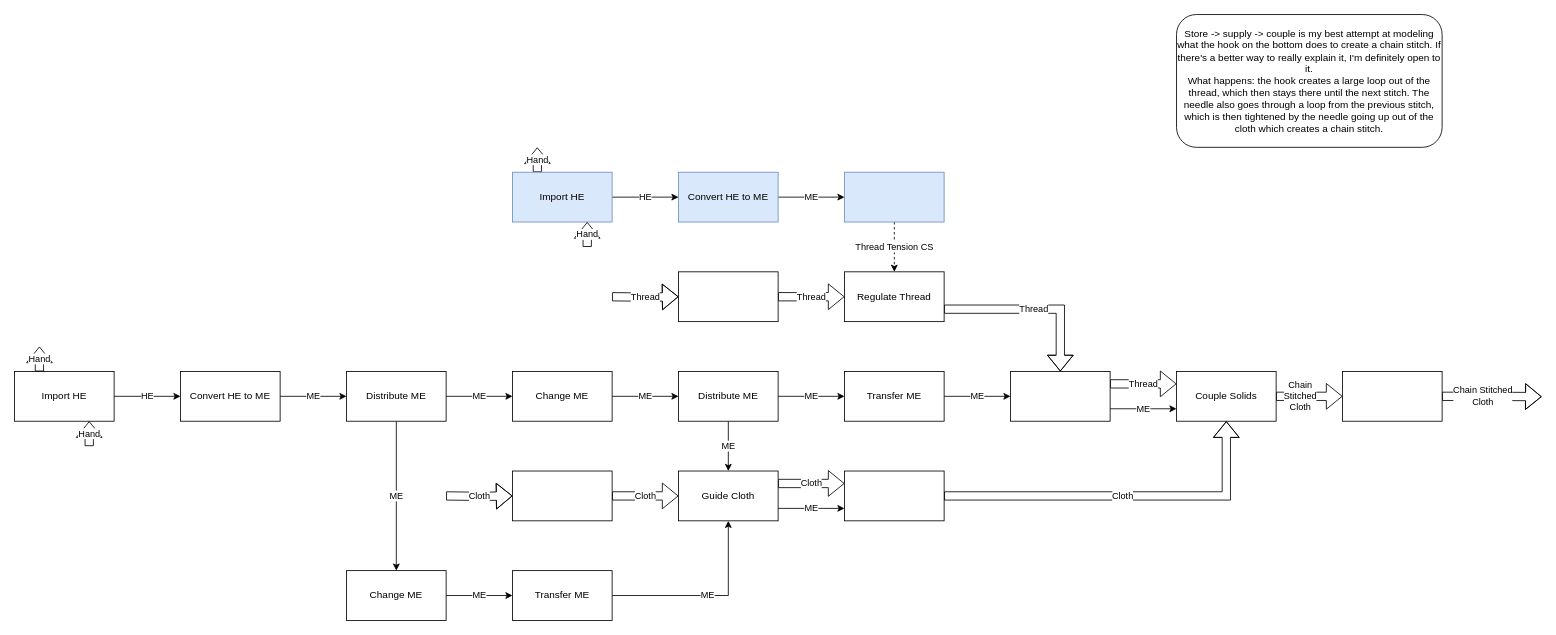
The diagram is 1556 pixels wide and 635 high, and some of its shapes have lost their labels. Each missing label, with the centre of its shape:
Convert ME to CS: the point at 894,196
Export Solid: the point at 1392,396
Guide Thread: the point at 1060,396
Import Cloth: the point at 562,495
Import Thread: the point at 728,296
Secure Cloth: the point at 894,495
